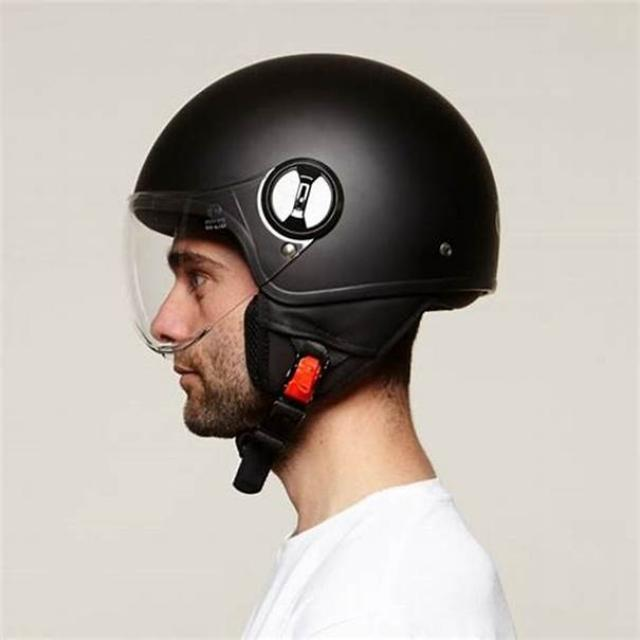helmet: (112, 44, 510, 507)
